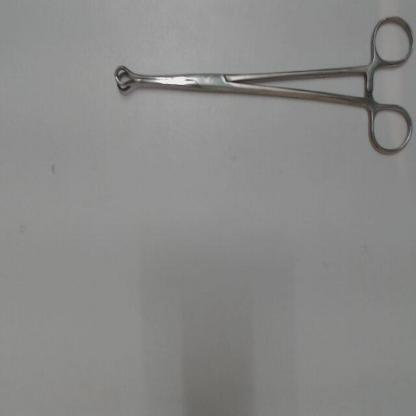8 Babcock Tissue Forceps: (111, 8, 414, 164)
